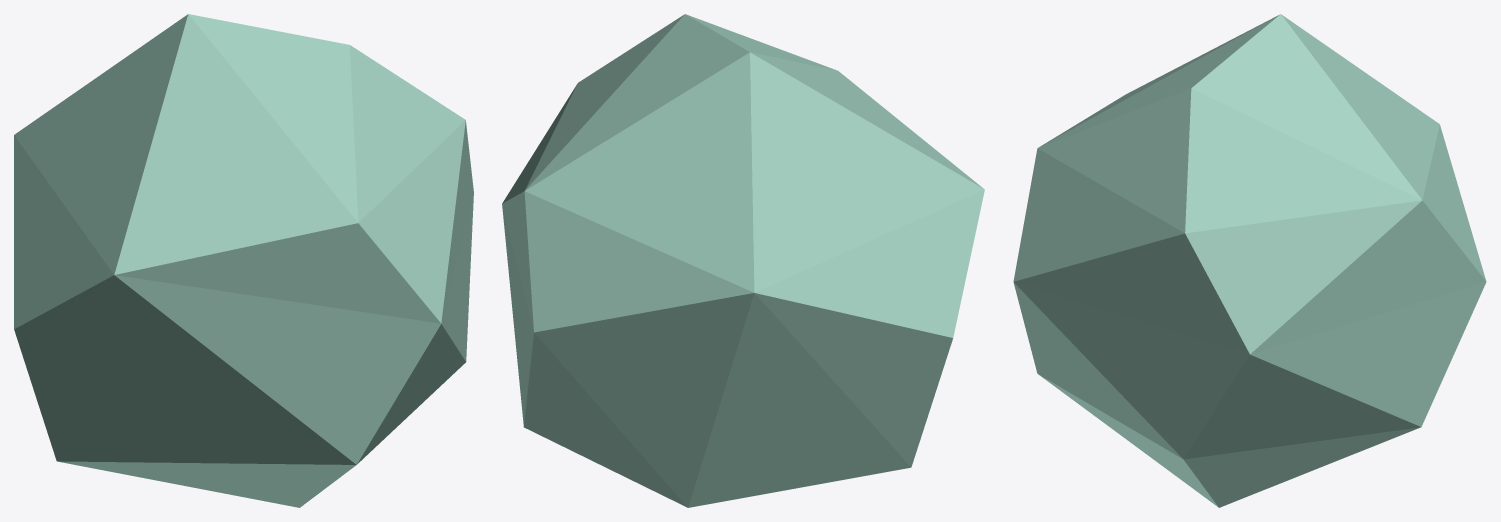
The model's file is Rock.fbx.
3 renders of one model, left to right at view 1: azimuth 30°, elevation 25°; view 2: azimuth 150°, elevation 25°; view 3: azimuth 270°, elevation 25°, orthographic. The views are drawn at different scales.
Visible parts, largest first — view 1: rock01; view 2: rock01; view 3: rock01.
Part boxes in pixels (<box>): rock01: <box>14,14,473,507</box>; rock01: <box>502,14,984,507</box>; rock01: <box>1013,14,1486,507</box>.
Bounding box in the file's own units: 209 × 212 × 199.
